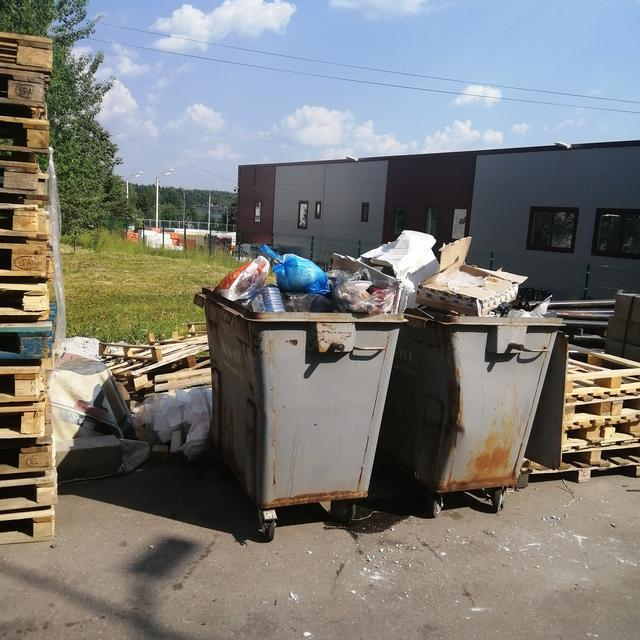Trash_Can_Full: (195, 252, 409, 508), (380, 227, 565, 496)
